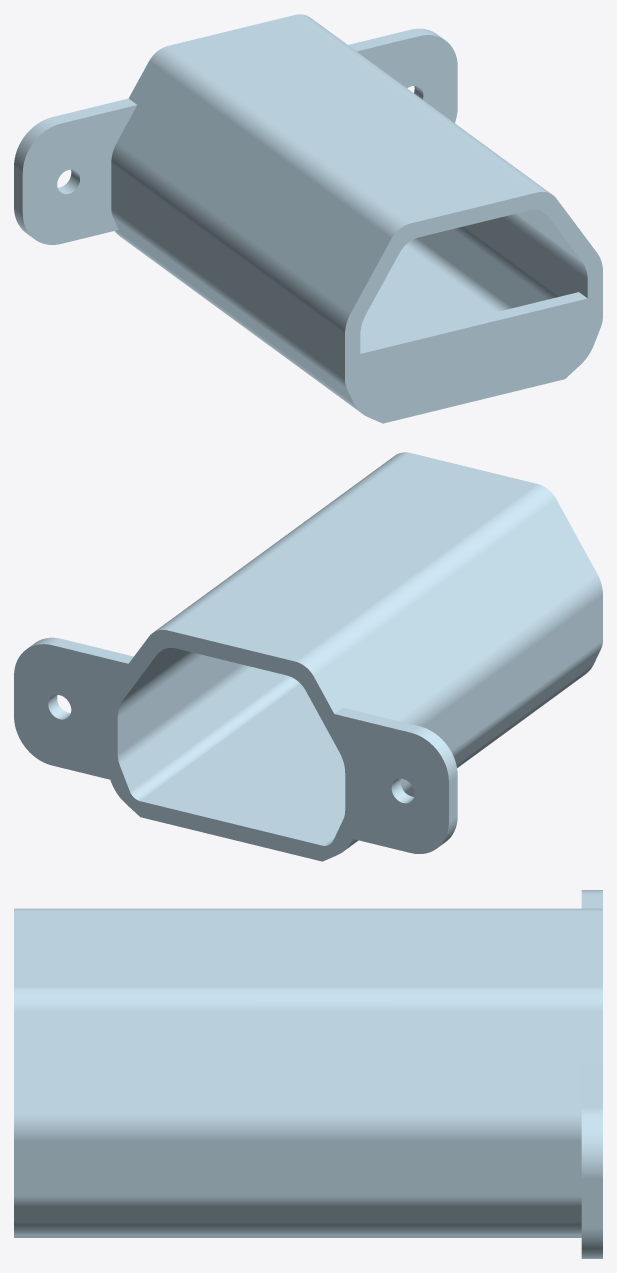
3 views of the same model, one above another, from view 1: azimuth 30°, elevation 25°; view 2: azimuth 150°, elevation 25°; view 3: azimuth 270°, elevation 25° (orthographic). The views are drawn at different scales.
Visible parts, largest first — view 1: mesh9615, mesh9608, mesh9629, mesh9605, mesh9598, mesh9614, mesh9643, mesh9604, mesh9627, mesh9638, mesh9646, mesh9607 (+11 smaller); view 2: mesh9644, mesh9615, mesh9608, mesh9643, mesh9605, mesh9614, mesh9646, mesh9604, mesh9638, mesh9648, mesh9616, mesh9647 (+8 smaller); view 3: mesh9617, mesh9615, mesh9619, mesh9618, mesh9616, mesh9621, mesh9613, mesh9620, mesh9614, mesh9612, mesh9626, mesh9625 (+2 smaller).
Boxes of the visible parts, box(x1,y1,x2,y2) form: mesh9615: box(168, 15, 536, 223); mesh9608: box(117, 61, 390, 312); mesh9629: box(345, 192, 602, 423); mesh9605: box(111, 163, 344, 378); mesh9598: box(22, 105, 136, 244); mesh9614: box(149, 46, 410, 238); mesh9643: box(360, 246, 494, 345); mesh9604: box(111, 142, 350, 333); mesh9627: box(357, 35, 457, 122); mesh9638: box(464, 217, 587, 297); mesh9646: box(417, 229, 547, 307); mesh9607: box(113, 218, 353, 402); mesh9644: box(14, 630, 448, 861); mesh9615: box(168, 453, 536, 661); mesh9608: box(314, 499, 596, 720); mesh9643: box(140, 684, 345, 845); mesh9605: box(400, 595, 602, 786); mesh9614: box(295, 484, 556, 676); mesh9646: box(120, 667, 287, 790); mesh9604: box(397, 574, 602, 726); mesh9638: box(117, 655, 240, 754); mesh9648: box(130, 676, 300, 800); mesh9616: box(154, 452, 409, 631); mesh9647: box(117, 664, 252, 764); mesh9617: box(14, 1011, 602, 1113); mesh9615: box(14, 911, 602, 986); mesh9619: box(14, 1141, 581, 1195); mesh9618: box(14, 1113, 581, 1140); mesh9616: box(14, 986, 602, 1011); mesh9621: box(14, 1206, 581, 1221); mesh9613: box(14, 1222, 581, 1234); mesh9620: box(14, 1195, 581, 1206); mesh9614: box(14, 908, 602, 911); mesh9612: box(14, 1234, 581, 1237); mesh9626: box(581, 1107, 602, 1178); mesh9625: box(581, 1178, 602, 1227).
Bounding box in the file's own units: 0.0569 × 0.0242 × 0.055.
